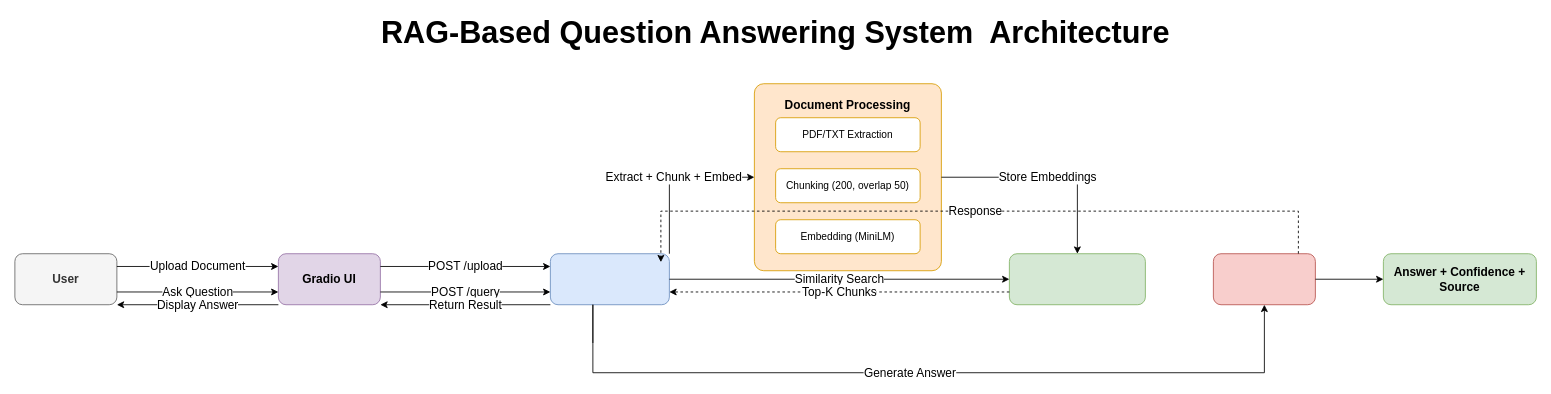
The diagram is 1551 pixels wide and 394 high, and some of its shapes have lost their labels. The shapes that lost their labels are listed below. From the top down, each one's box as (x1, y1, x2, y2) in pixels, then its label:
(550, 253, 669, 305): FastAPI Backend
(1009, 253, 1145, 305): Pinecone Vector Store
(1213, 253, 1315, 305): LLM (Groq)
